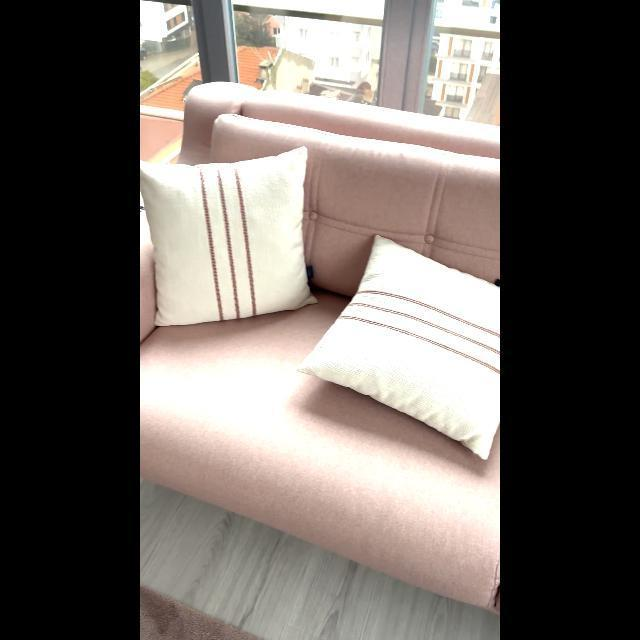throw pillow: (290, 232, 500, 470), (140, 140, 344, 336)
